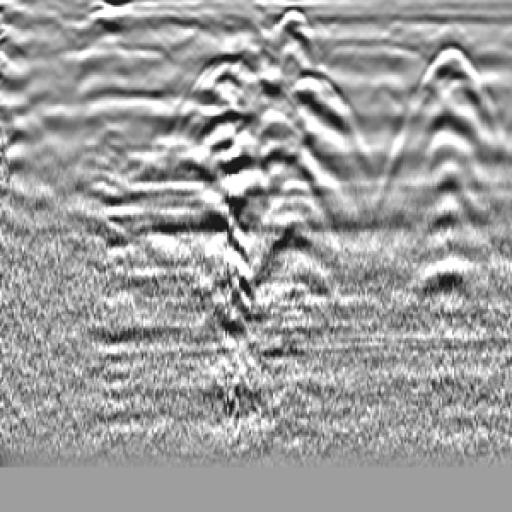metalic: (255, 3, 353, 348)
nonmetalic: (361, 39, 512, 309), (148, 31, 282, 232)
